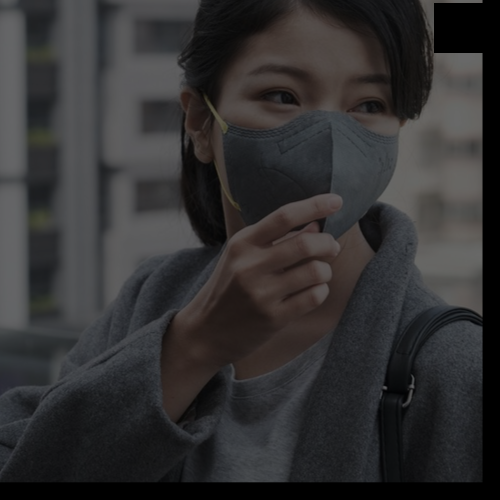with_mask: (210, 61, 403, 251)
